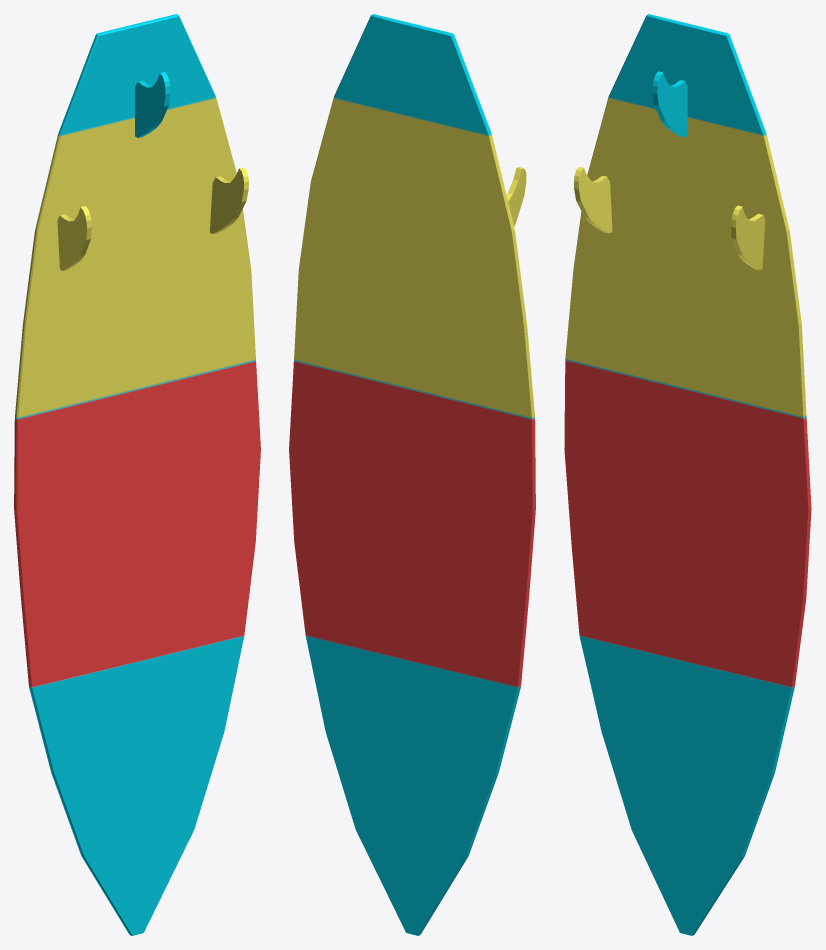
The model's file is surfboardTrippy.fbx.
The picture shows the model from 3 angles, left to right: view 1: azimuth 30°, elevation 25°; view 2: azimuth 150°, elevation 25°; view 3: azimuth 330°, elevation 25°; orthographic projection.
Visible parts, largest first — view 1: surfingBoard; view 2: surfingBoard; view 3: surfingBoard.
Boxes of the visible parts, x1,y1,x2,y2 form: surfingBoard: [14, 14, 260, 935]; surfingBoard: [289, 14, 535, 935]; surfingBoard: [564, 14, 811, 935].
Bounding box in the file's own units: 1.36 × 4.8 × 0.3174.
